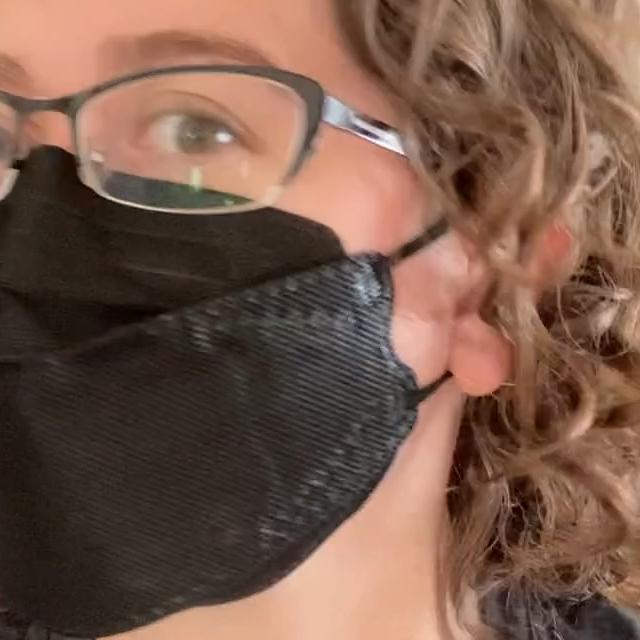Mask: (0, 152, 491, 635)
Person: (0, 0, 640, 640)
